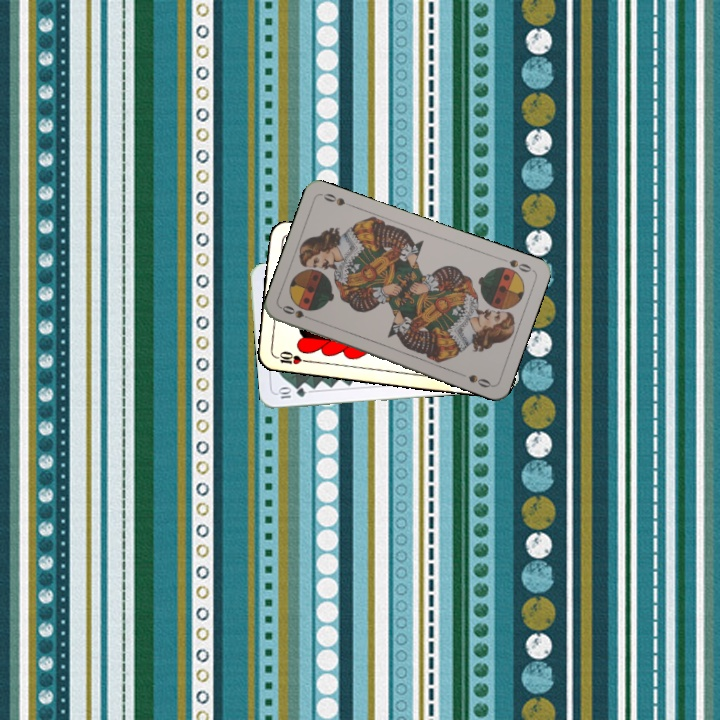G10: (274, 384, 308, 401)
H10: (270, 347, 311, 367)
SO: (278, 301, 317, 322), (496, 254, 534, 275)
